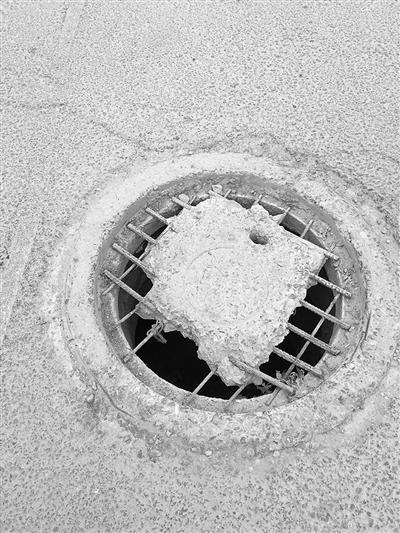broke: (75, 145, 385, 439)
